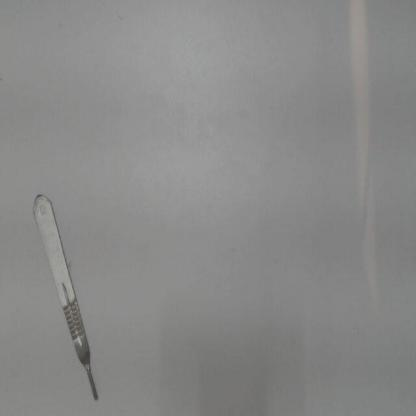No.3 BP Handle: (20, 181, 108, 413)
